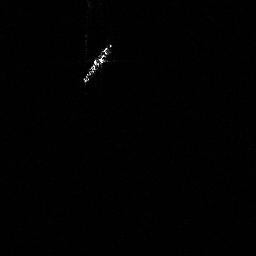ship: (79, 39, 116, 87)
